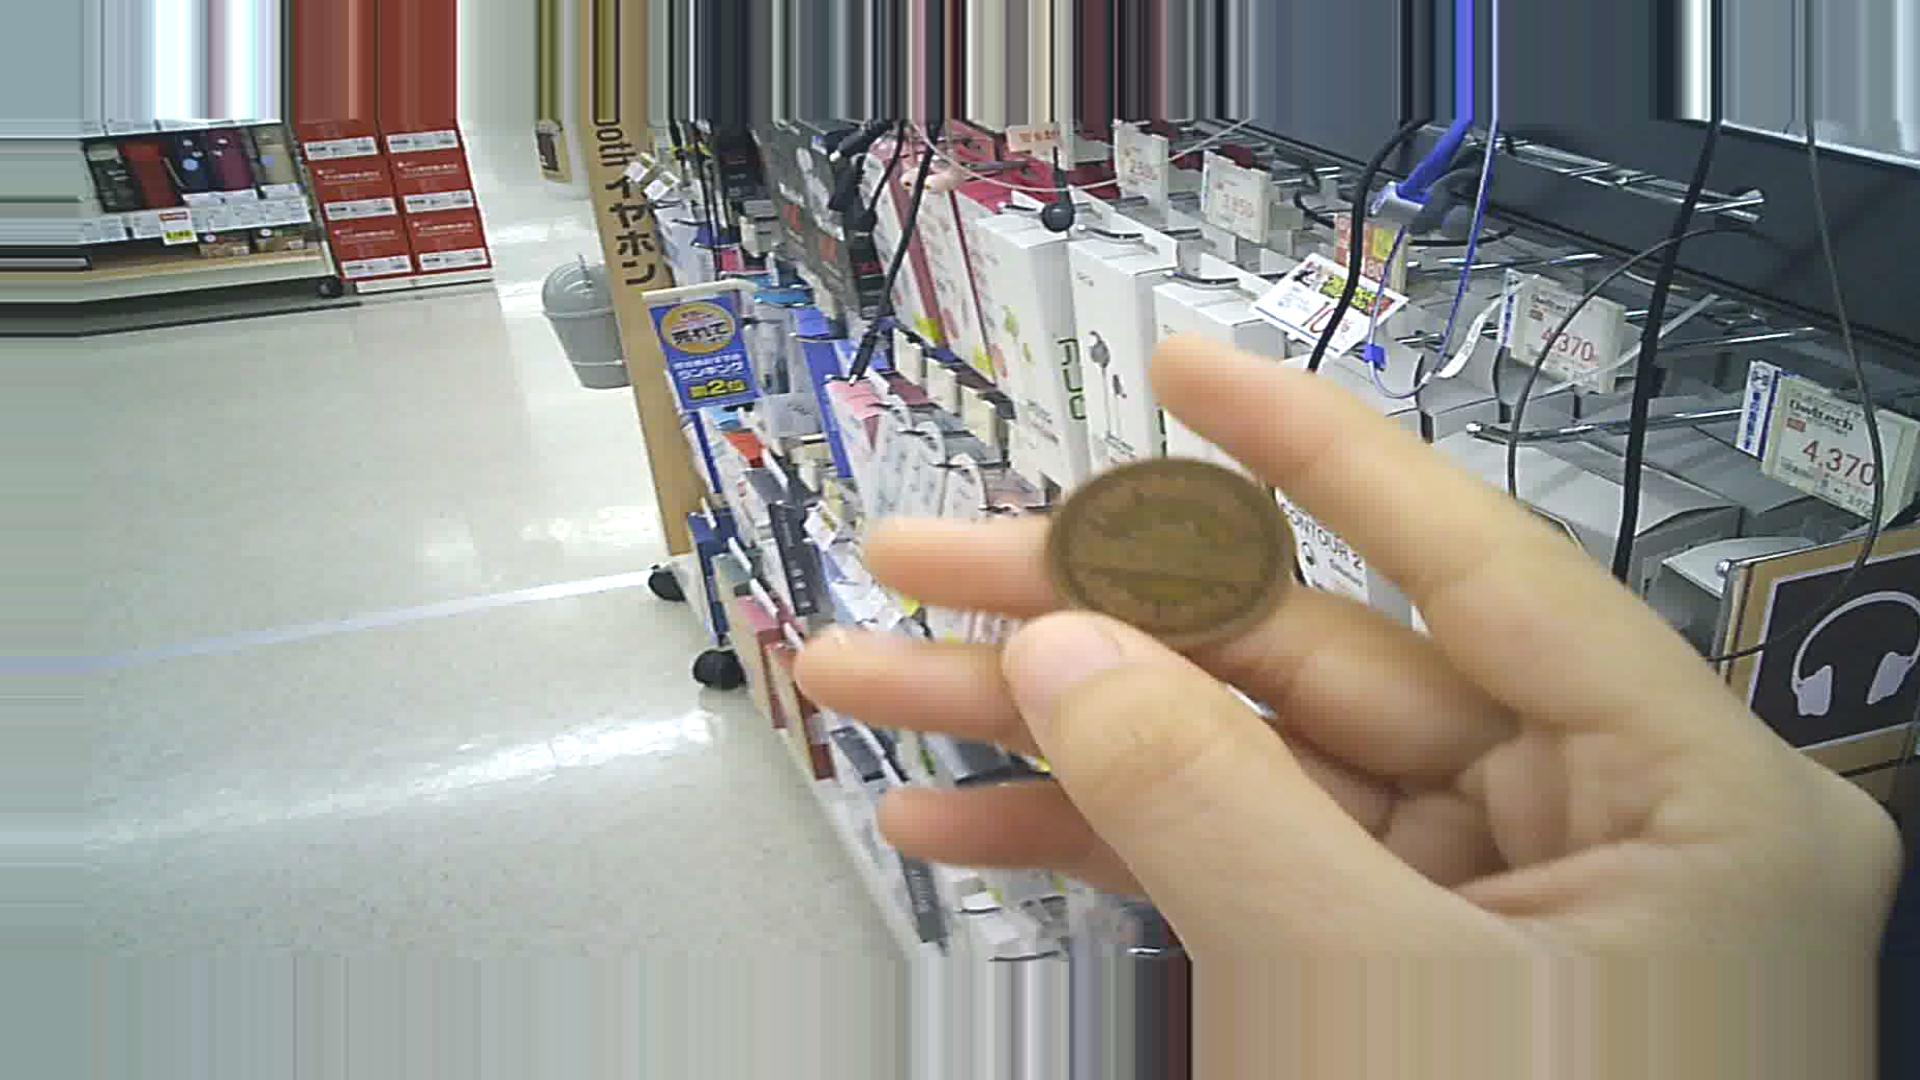10 Yen: (1033, 450, 1300, 669)
